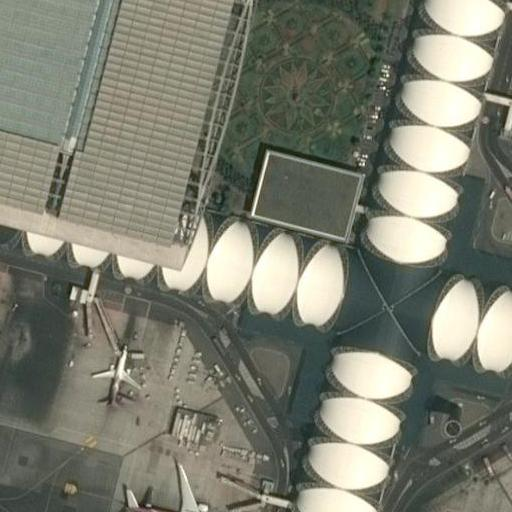Aircraft: (119, 449, 245, 512), (93, 348, 140, 409)
